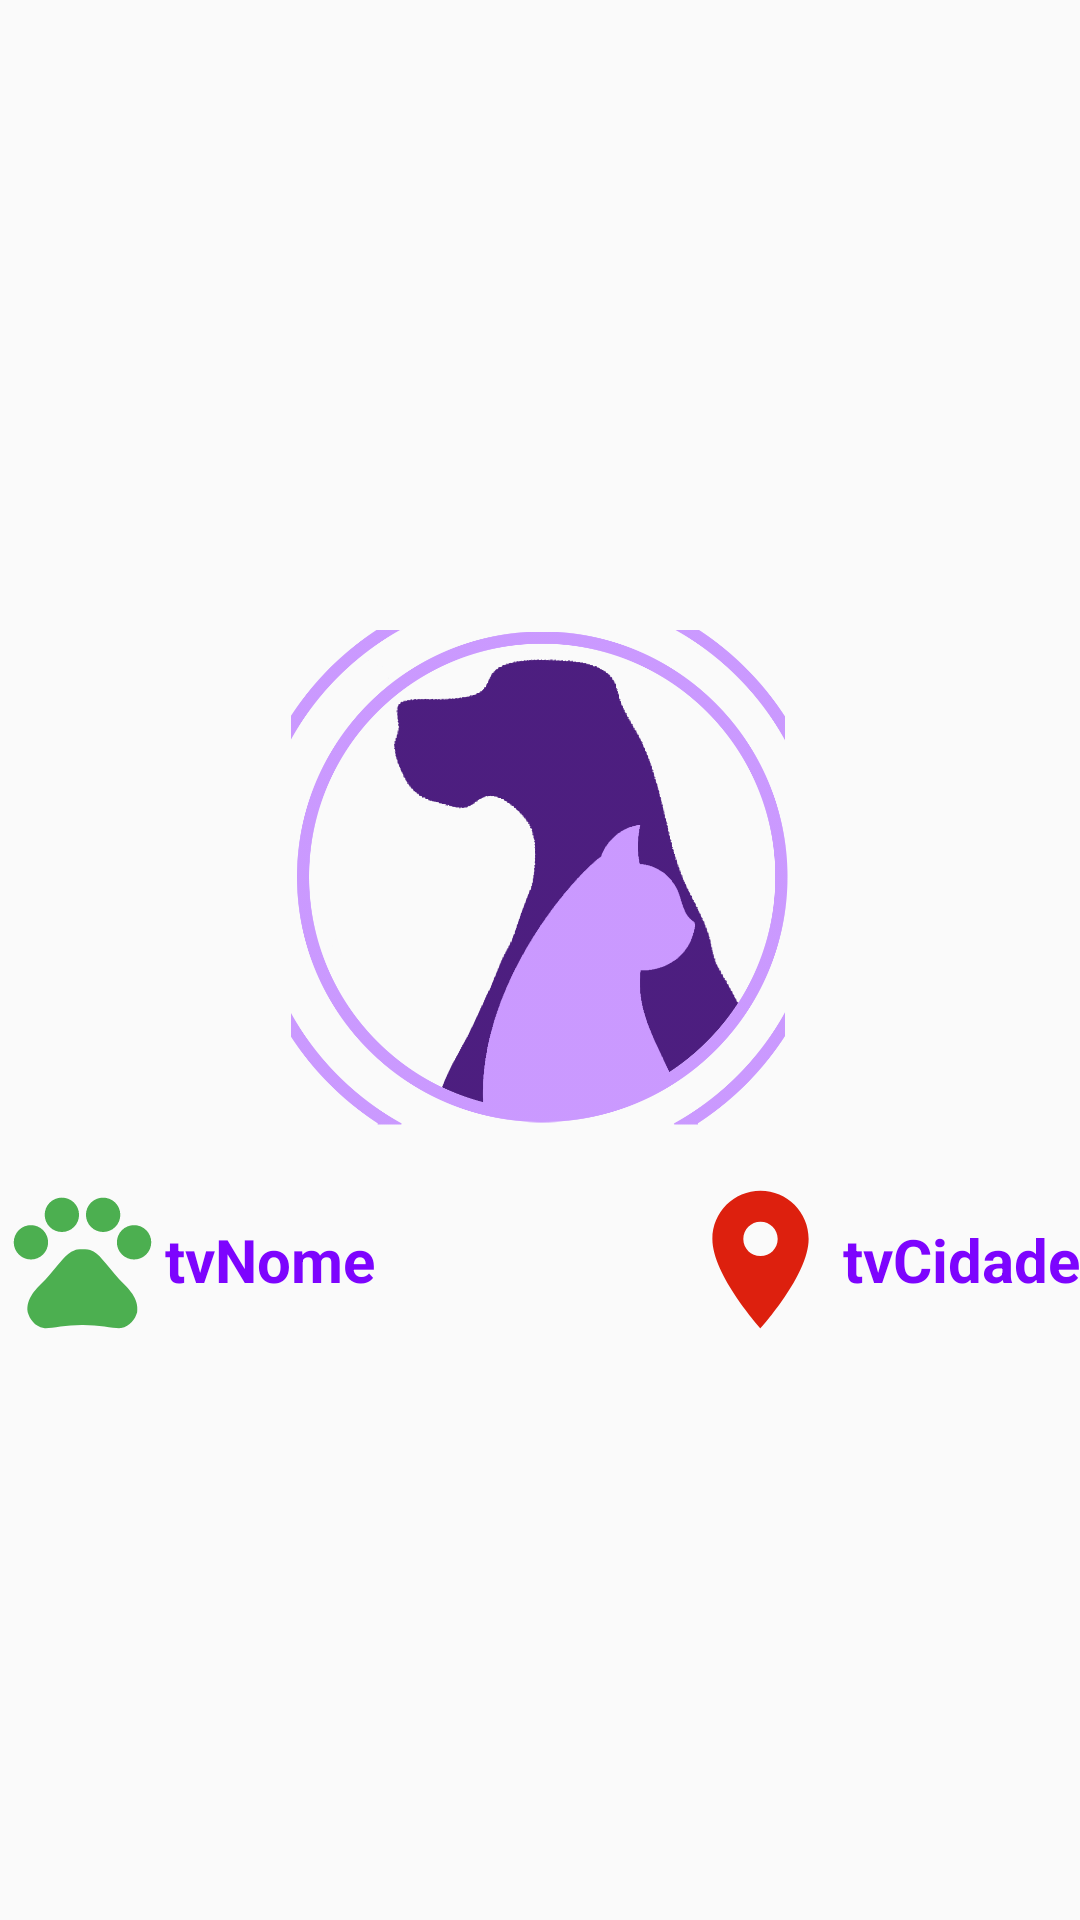

Where to tap for icons on this 1080*1920 app screen, as (x,y):
pets: (82,1263)
pin map: (760,1259)
